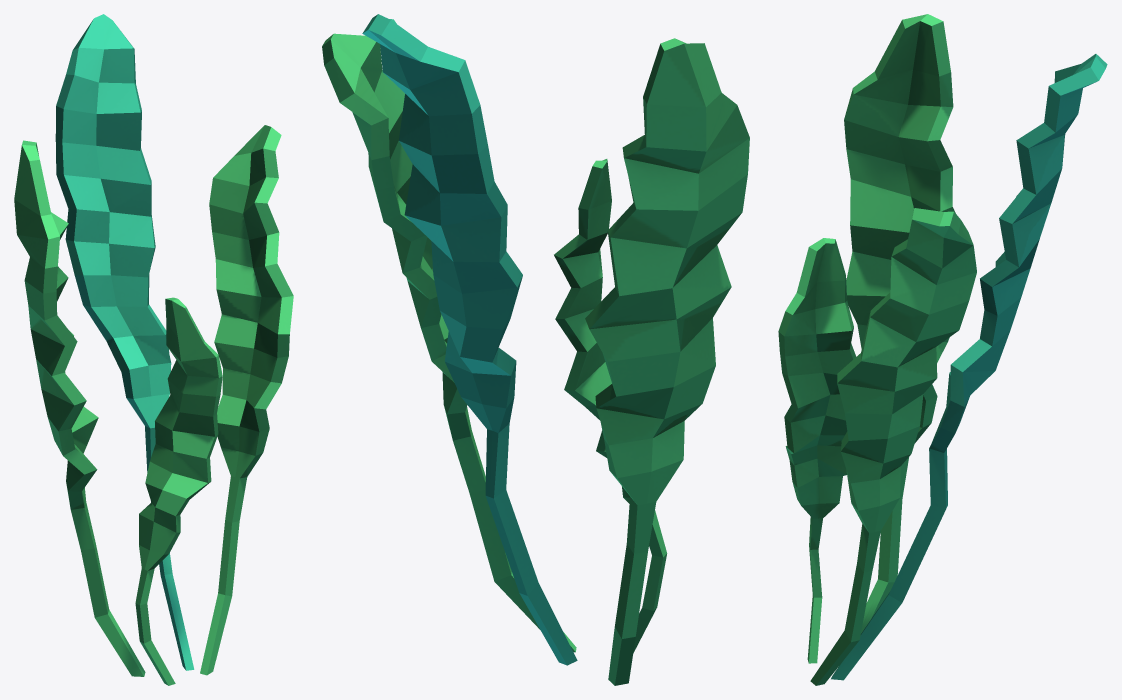
Rendered from kelp1.obj.
The picture shows the model from 3 angles, left to right: view 1: azimuth 30°, elevation 25°; view 2: azimuth 150°, elevation 25°; view 3: azimuth 270°, elevation 25°; orthographic projection. The views are drawn at different scales.
Visible parts, largest first — view 1: kelp; view 2: kelp; view 3: kelp.
Part boxes in pixels (x1=…): kelp: x1=14, y1=14, x2=293, y2=685; kelp: x1=322, y1=14, x2=749, y2=685; kelp: x1=778, y1=14, x2=1107, y2=685.
Size of the model in its own units: 2.05 by 3.97 by 1.86.
Materials: 1 (1 with a texture image).
